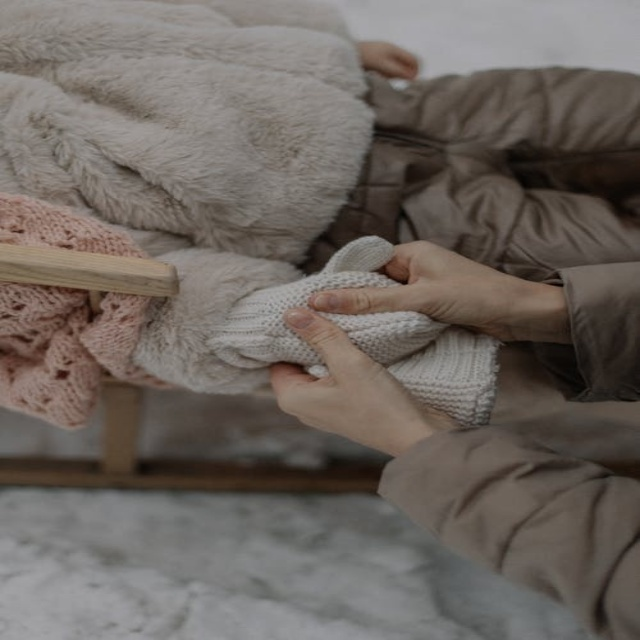Sin_guantes: (256, 301, 460, 460), (299, 239, 561, 346), (357, 39, 422, 83)
